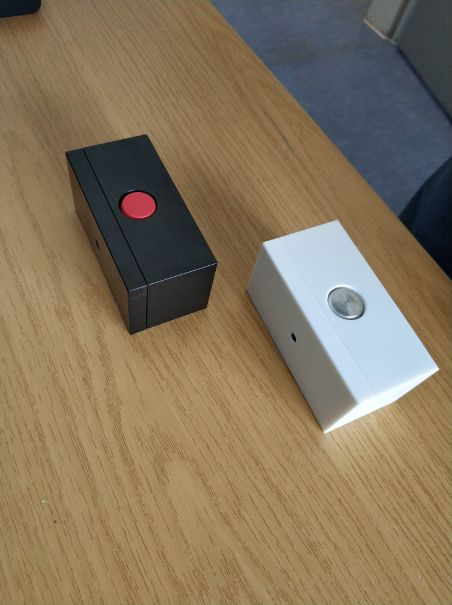black+black+red: (63, 133, 222, 339)
white+white+silver: (242, 218, 443, 437)
